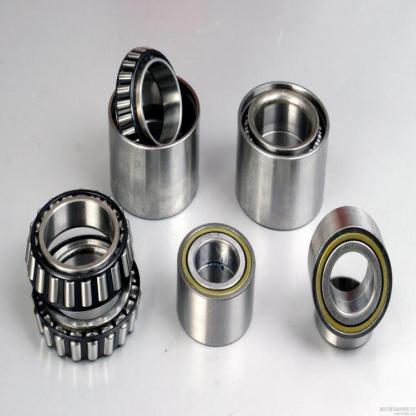FOD: (233, 74, 332, 234), (21, 186, 136, 317), (306, 202, 394, 341), (174, 220, 258, 350), (312, 271, 377, 351)
